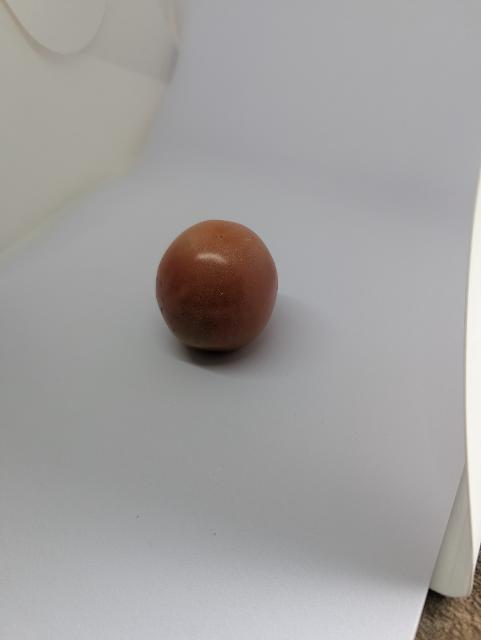red: (147, 211, 290, 367)
